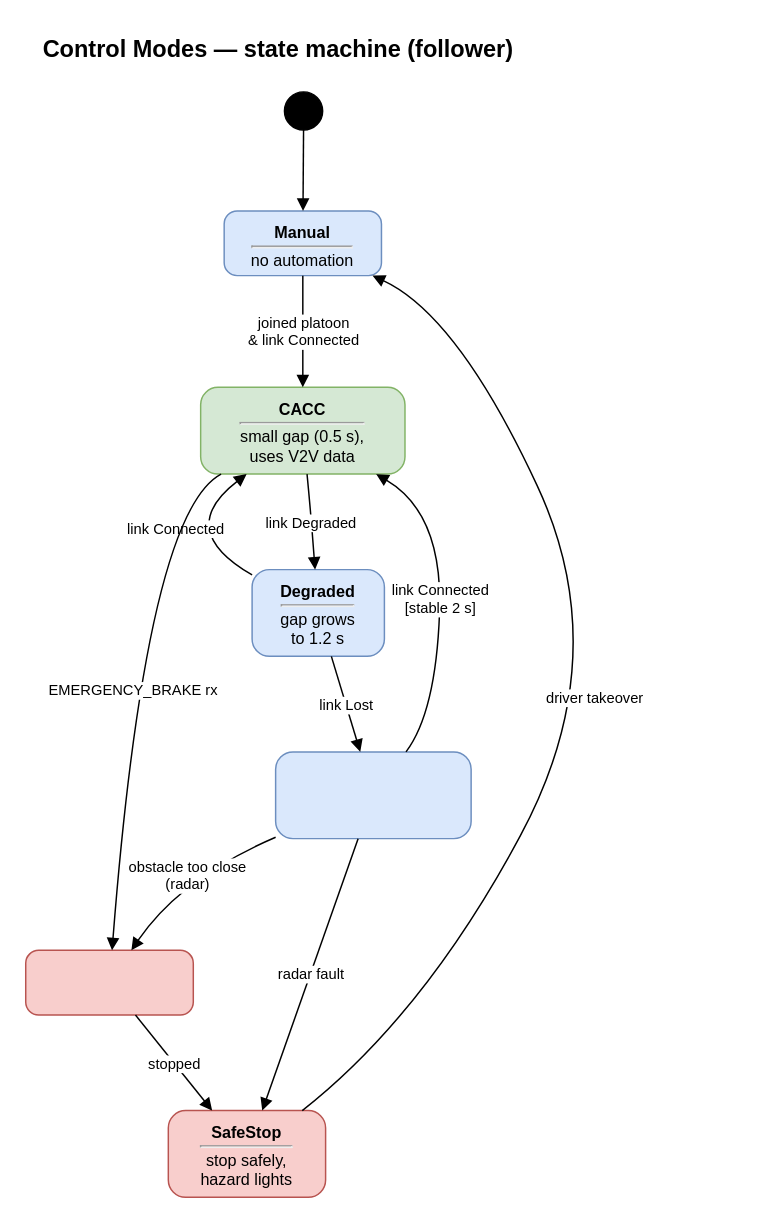
Some shapes in this 761 by 1223 pixel diagram are drawn without their labels. The shapes that lost their labels are listed below. From the top down, each one's centre as x and y in pixels, then its label:
At point (372, 794): "ACC radar only, large gap (1.5 s)".
At point (108, 982): "EmergencyBrake full braking".
